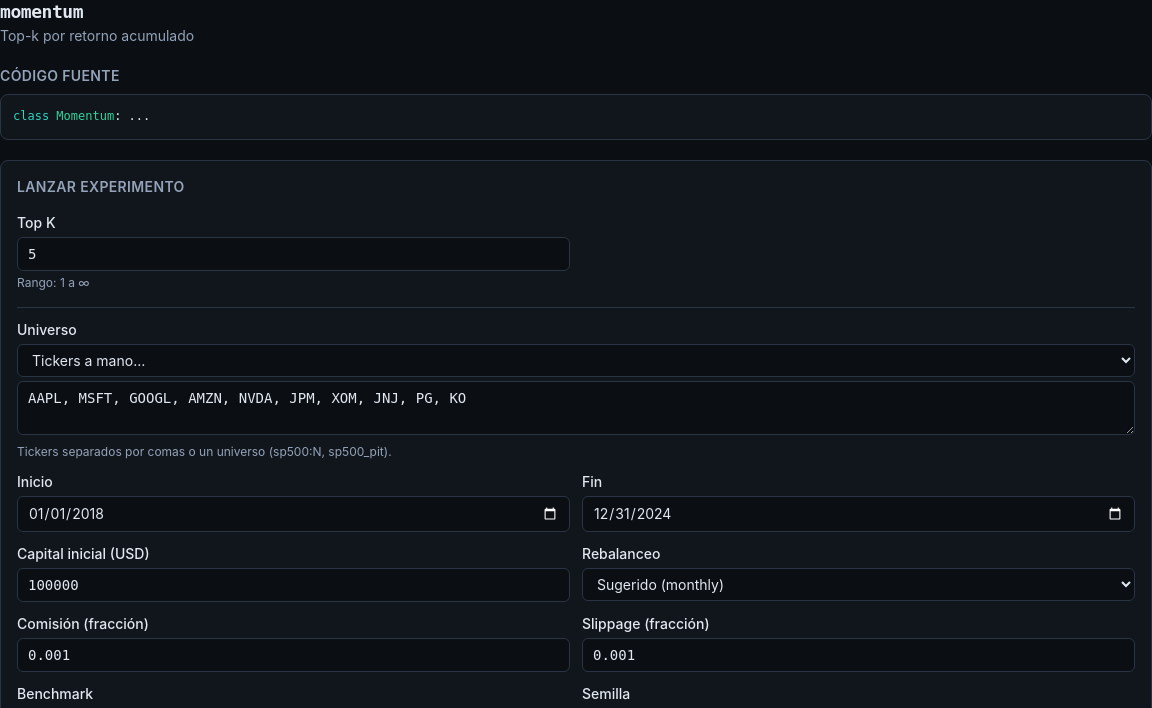
Scenario: Selector de universo del detalle de estrategia › ofrece sp500_pit como opción y explica que es point-in-time
This screenshot has width=1152, height=708.
(page scrolled)
Select "sp500_pit (1214 tickers, por fecha)" in the dropdown named "Universo predefinido" at (576, 360), box [17, 344, 1135, 376]
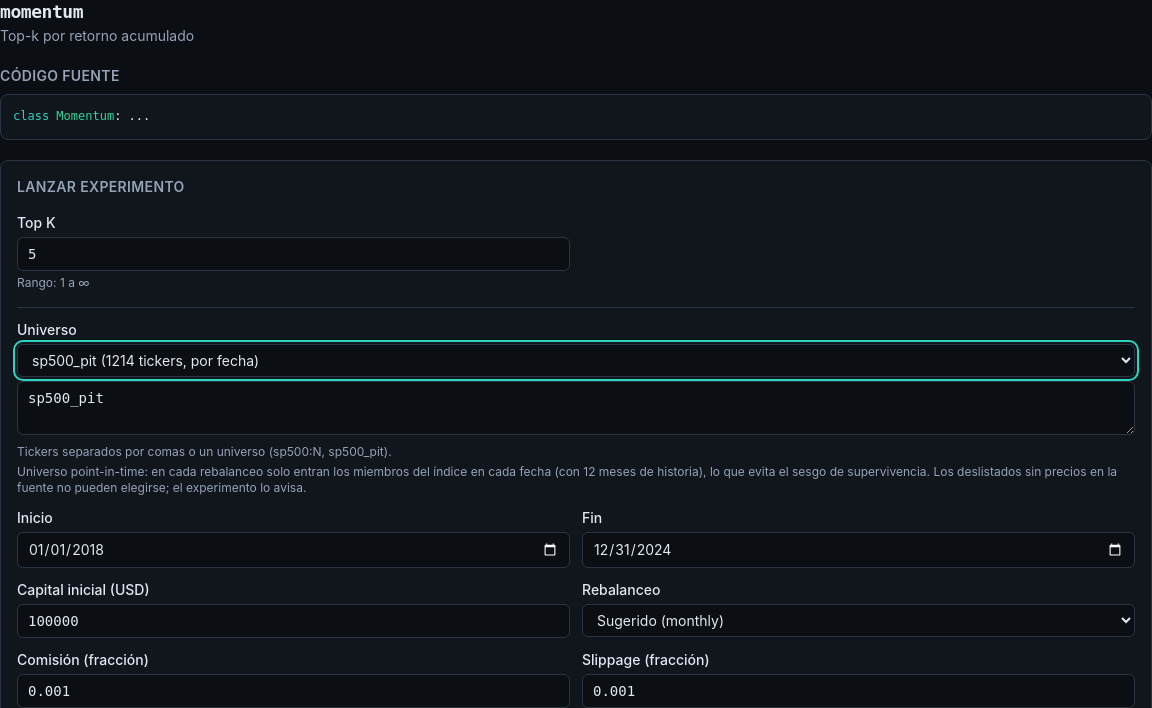
Expected: the text box labelled "Universo" holds "sp500_pit", [17, 380, 1135, 434]
Expected: the text "miembros del índice en cada fecha" is shown, [17, 464, 1117, 494]
